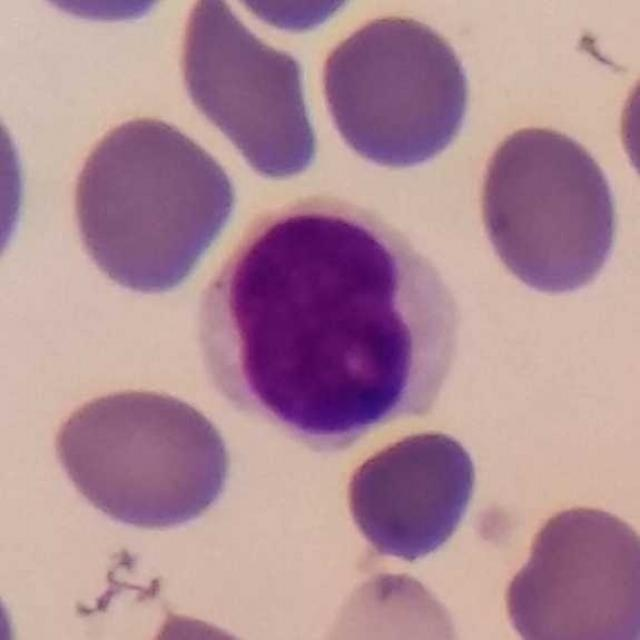Lymphocyte: (192, 189, 476, 456)
RBC: (65, 107, 242, 300), (46, 378, 237, 536), (170, 0, 326, 187), (471, 117, 626, 302), (313, 19, 479, 188), (338, 424, 486, 567), (496, 497, 639, 640), (307, 564, 471, 640), (0, 68, 37, 305), (119, 606, 285, 640), (42, 0, 195, 32), (611, 45, 640, 209), (238, 1, 355, 34)
